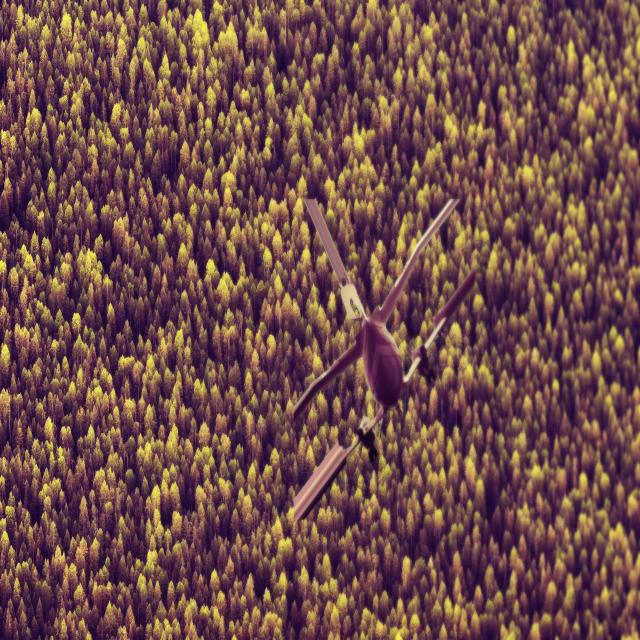airplane: (290, 194, 477, 522)
